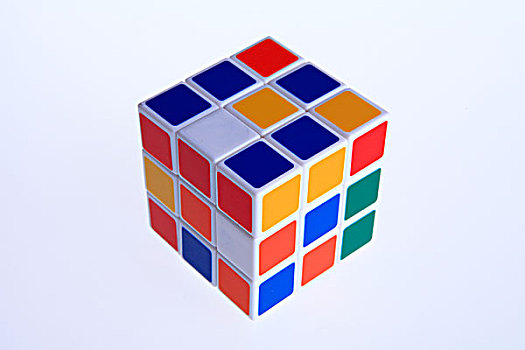cube: (134, 35, 390, 319)
